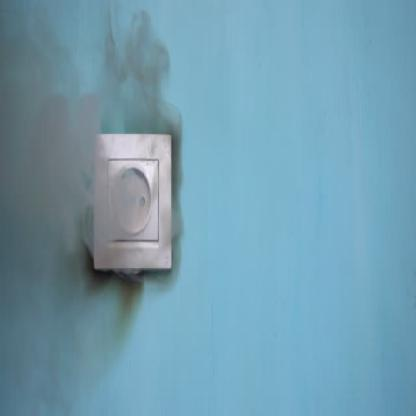smoke: (0, 0, 183, 405)
